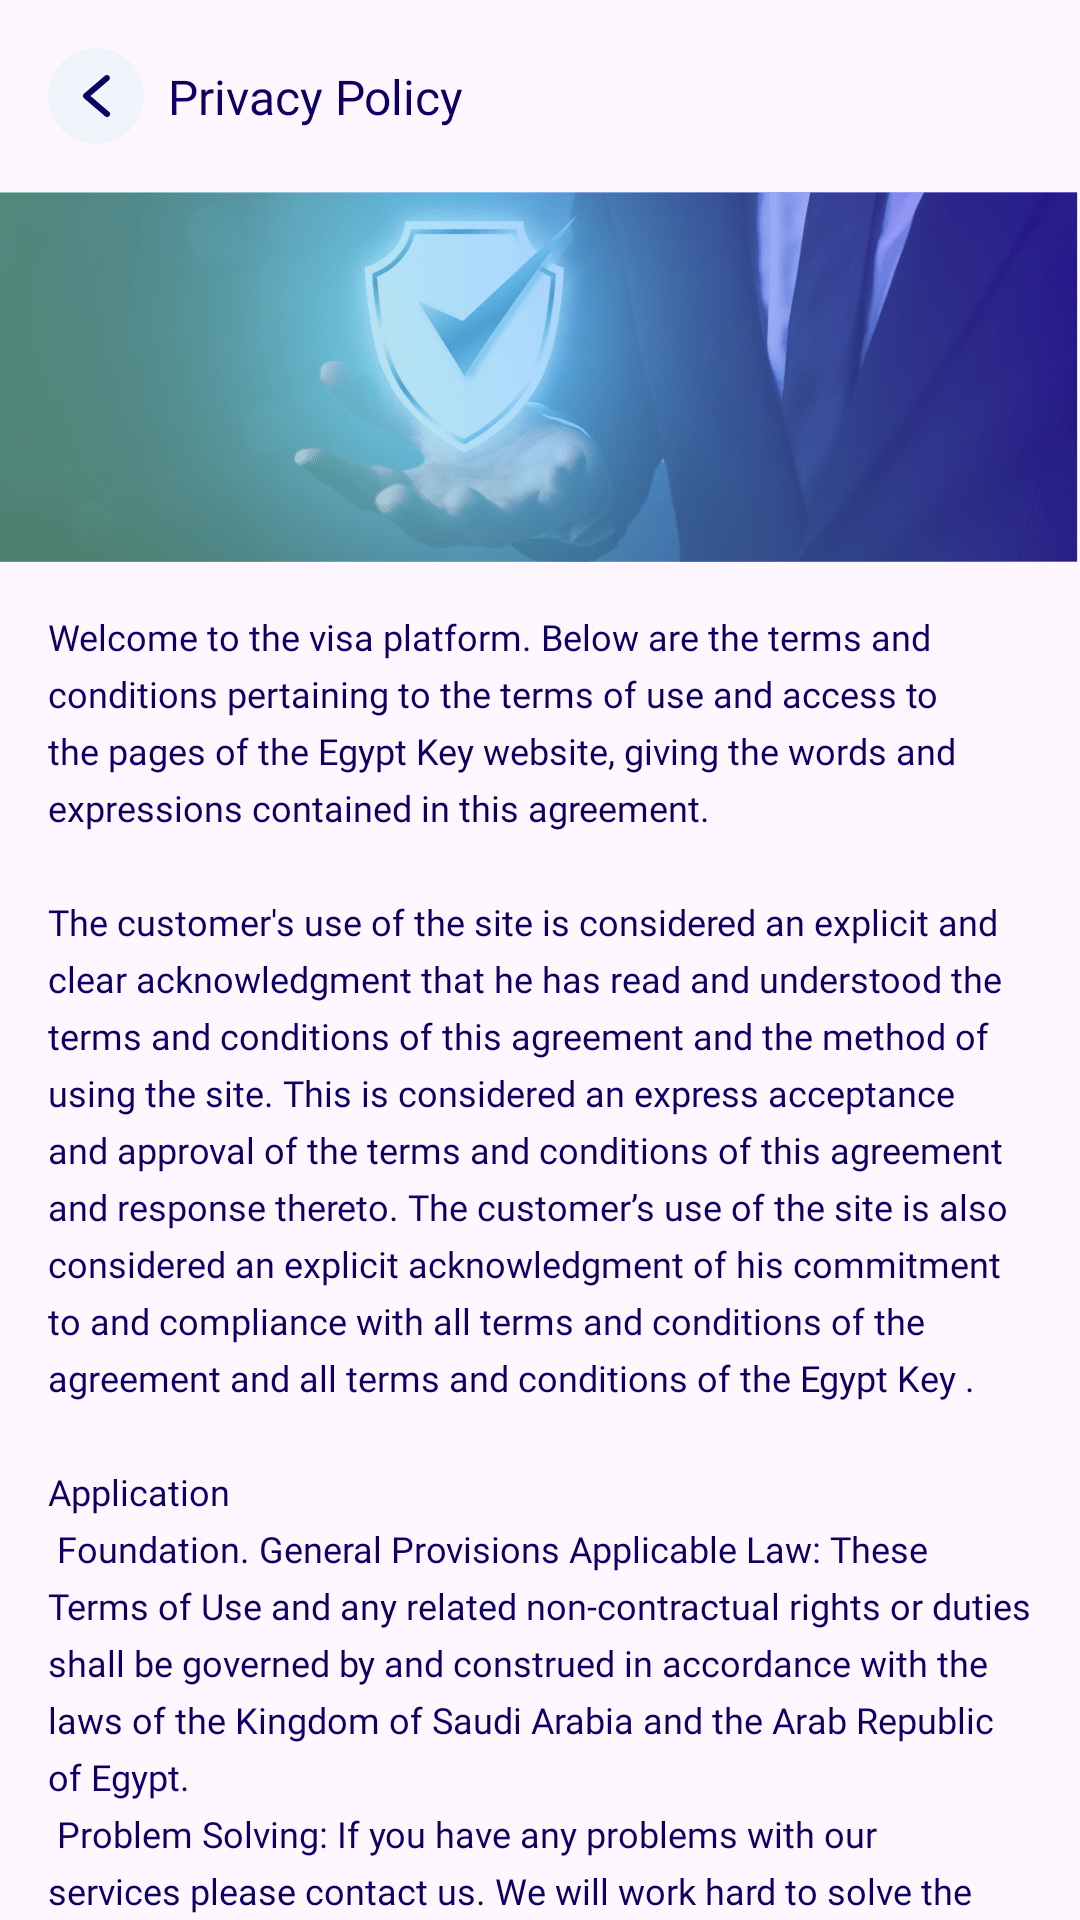

Named icons in this screenshot (1080x1920) and their centers, (x,y):
arrow back: (96,96)
